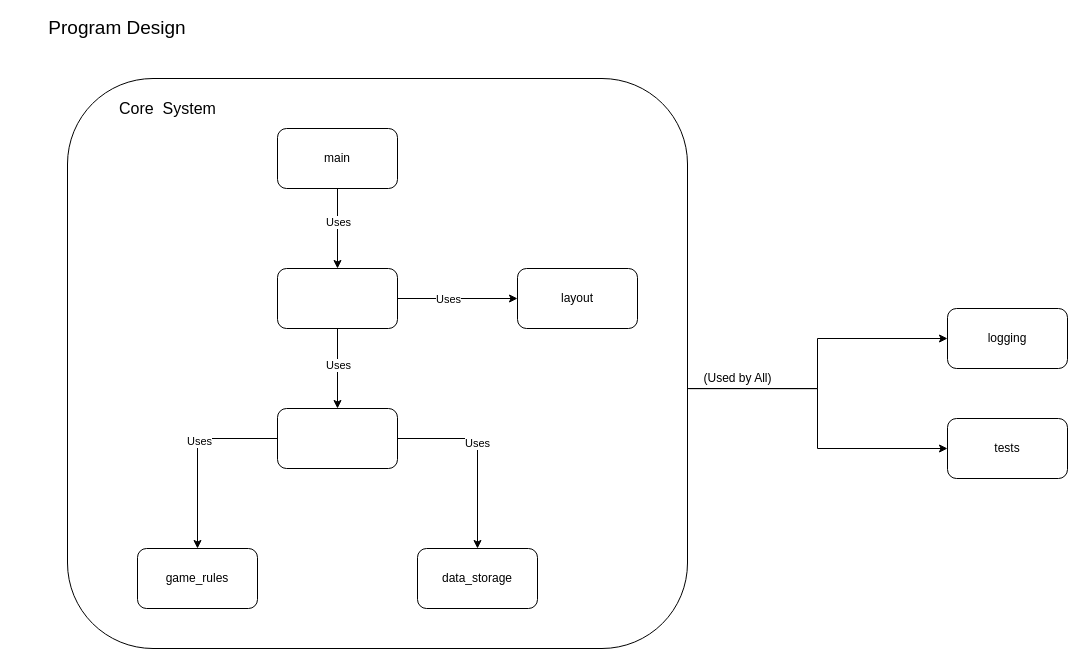
The diagram is 1085 pixels wide and 666 high, and some of its shapes have lost their labels. Each missing label, with the centre of its shape:
graphics: (337,438)
user_interface: (337,298)
